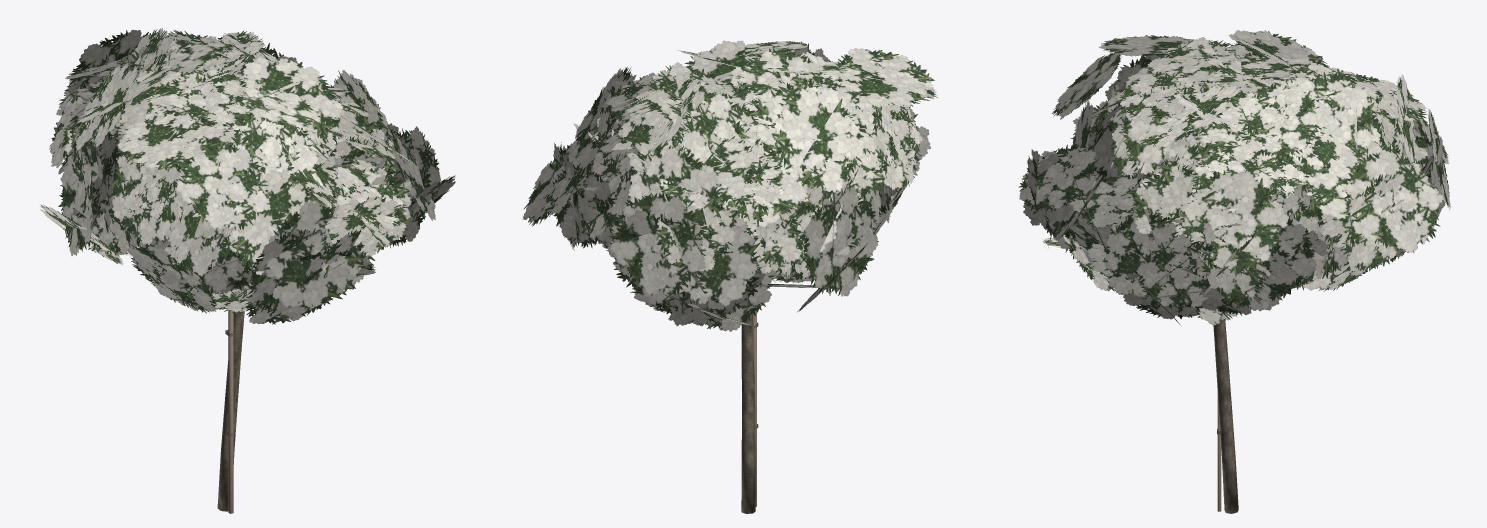
File: SM_Morin_OleandroAlberello_Bianco_LOD1.fbx
3 renders of one model, left to right at view 1: azimuth 30°, elevation 25°; view 2: azimuth 150°, elevation 25°; view 3: azimuth 270°, elevation 25°, orthographic.
Visible parts, largest first — view 1: SM_Morin_OleandroAlberello_Bianco_LOD1; view 2: SM_Morin_OleandroAlberello_Bianco_LOD1; view 3: SM_Morin_OleandroAlberello_Bianco_LOD1.
Part boxes in pixels (x1=…): SM_Morin_OleandroAlberello_Bianco_LOD1: x1=40, y1=28, x2=455, y2=513; SM_Morin_OleandroAlberello_Bianco_LOD1: x1=523, y1=40, x2=938, y2=513; SM_Morin_OleandroAlberello_Bianco_LOD1: x1=1018, y1=30, x2=1450, y2=513.
Bounding box in the file's own units: 358 × 392 × 426.
2 materials, 2 textured.
